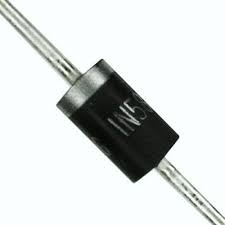diode: (24, 34, 204, 202)
